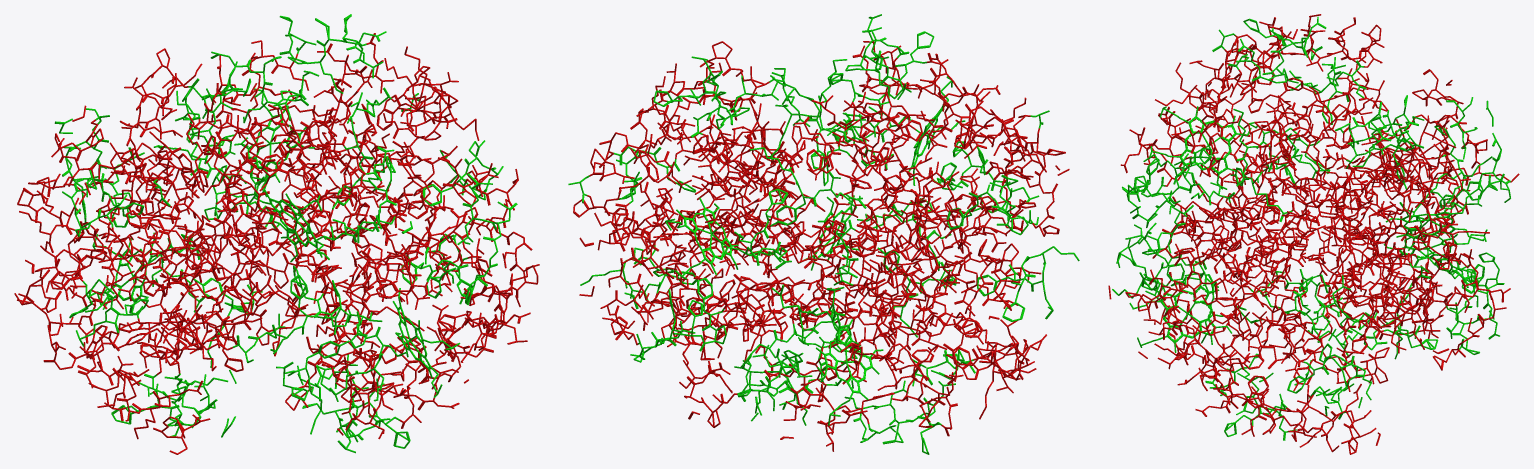
The model's file is 4hhb__lines__secondary-structure.glb.
3 renders of one model, left to right at view 1: azimuth 30°, elevation 25°; view 2: azimuth 150°, elevation 25°; view 3: azimuth 270°, elevation 25°, orthographic. The views are drawn at different scales.
Parts seen in each view (by area): view 1: Renderer Node; view 2: Renderer Node; view 3: Renderer Node.
Part boxes in pixels (x1,y1,x2,y2): Renderer Node: [14, 14, 539, 454]; Renderer Node: [568, 14, 1079, 454]; Renderer Node: [1108, 14, 1519, 454].
Bounding box in the file's own units: 65.55 × 57.14 × 57.46.
